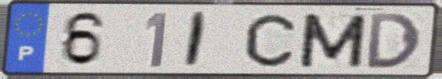1: (143, 10, 169, 70)
6: (57, 10, 106, 69)
C: (242, 12, 298, 69)
D: (365, 11, 424, 70)
I: (181, 10, 211, 70)
M: (296, 12, 370, 70)
